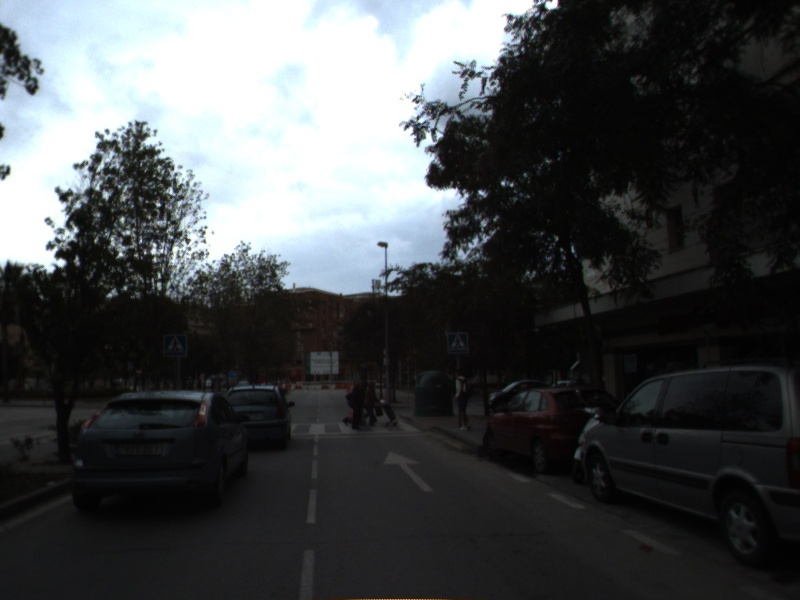STRAIGHT: (381, 450, 437, 493)
